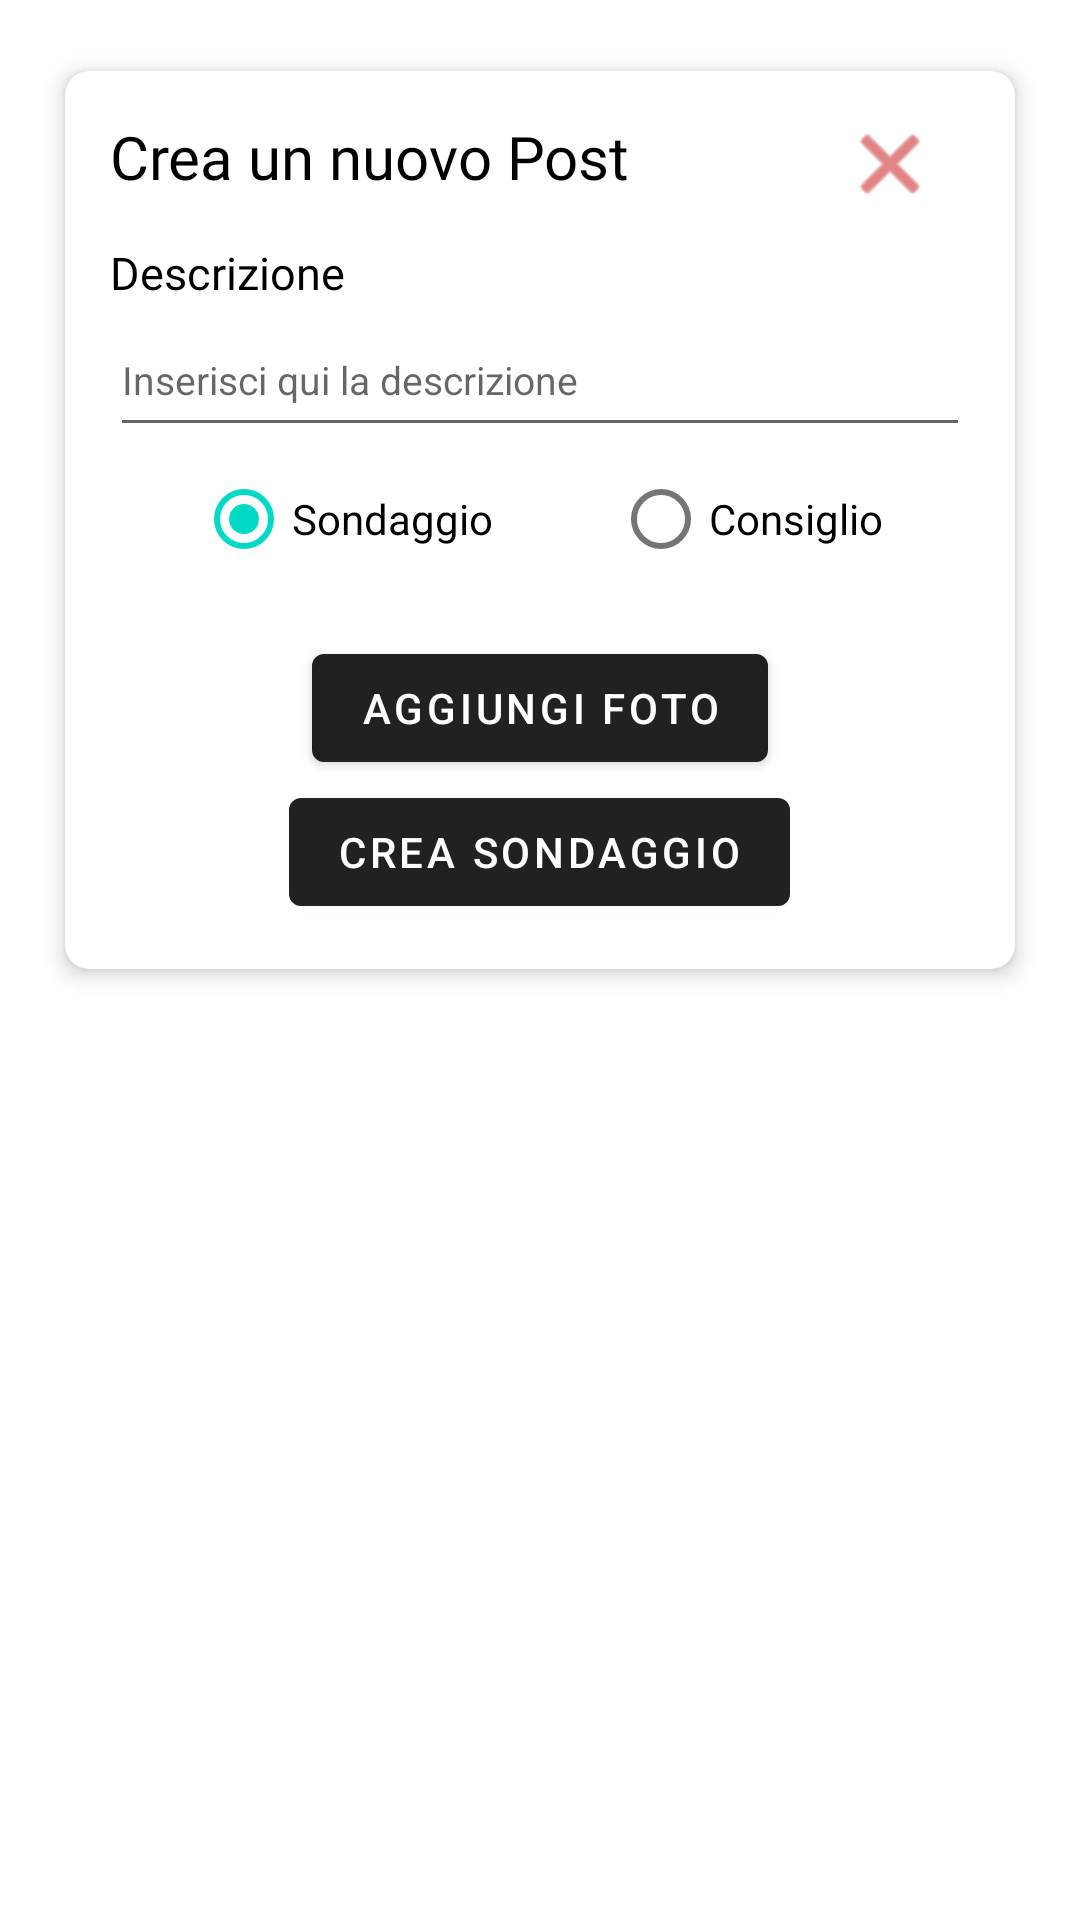

Where icons sit on this 1080w x 1920h app screen, as box=[x1, y1, x2, y2]:
close clear cancel: box=[860, 134, 920, 194]
